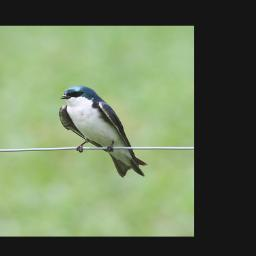Swallow: (58, 85, 149, 178)
